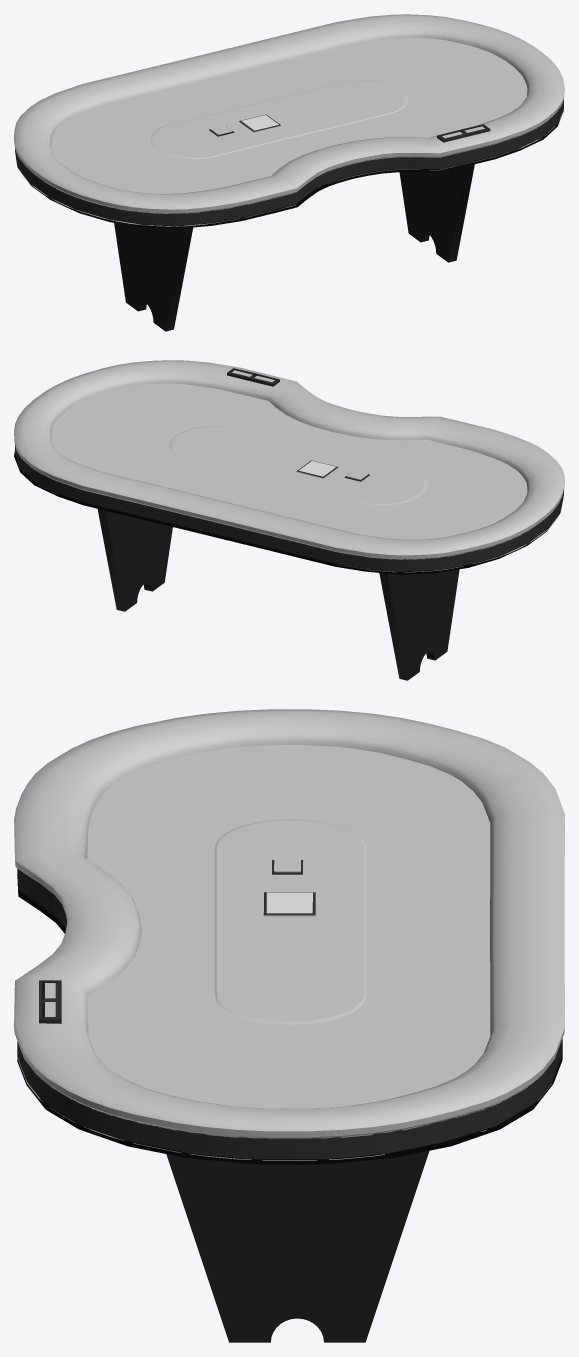
File: Tablenew.FBX
3 views of the same model, one above another, from view 1: azimuth 30°, elevation 25°; view 2: azimuth 150°, elevation 25°; view 3: azimuth 270°, elevation 25° (orthographic). The views are drawn at different scales.
Visible parts, largest first — view 1: Poker game bace, Poker game border cover, Lag, Cylinder001, Poker Table, Poker game border bace, Box011; view 2: Poker game bace, Poker game border cover, Lag, Cylinder001, Poker Table, Poker game border bace; view 3: Poker game bace, Poker game border cover, Lag, Cylinder001, Poker Table, Poker game border bace, Box011.
Part boxes in pixels (bbox=[...]): Poker game bace: bbox=[51, 37, 527, 193]; Poker game border cover: bbox=[14, 14, 564, 226]; Lag: bbox=[114, 164, 474, 331]; Cylinder001: bbox=[150, 79, 408, 159]; Poker Table: bbox=[15, 100, 563, 225]; Poker game border bace: bbox=[17, 110, 563, 228]; Box011: bbox=[239, 115, 280, 132]; Poker game bace: bbox=[51, 383, 527, 539]; Poker game border cover: bbox=[14, 360, 564, 572]; Lag: bbox=[97, 509, 459, 680]; Cylinder001: bbox=[168, 426, 427, 505]; Poker Table: bbox=[15, 445, 563, 571]; Poker game border bace: bbox=[14, 451, 560, 574]; Poker game bace: bbox=[87, 745, 490, 1108]; Poker game border cover: bbox=[14, 709, 564, 1160]; Lag: bbox=[166, 1150, 429, 1342]; Cylinder001: bbox=[214, 819, 366, 1024]; Poker Table: bbox=[17, 869, 561, 1159]; Poker game border bace: bbox=[17, 868, 562, 1164]; Box011: bbox=[263, 892, 315, 916].
Bounding box in the file's own units: 60.72 × 20.53 × 33.58.
